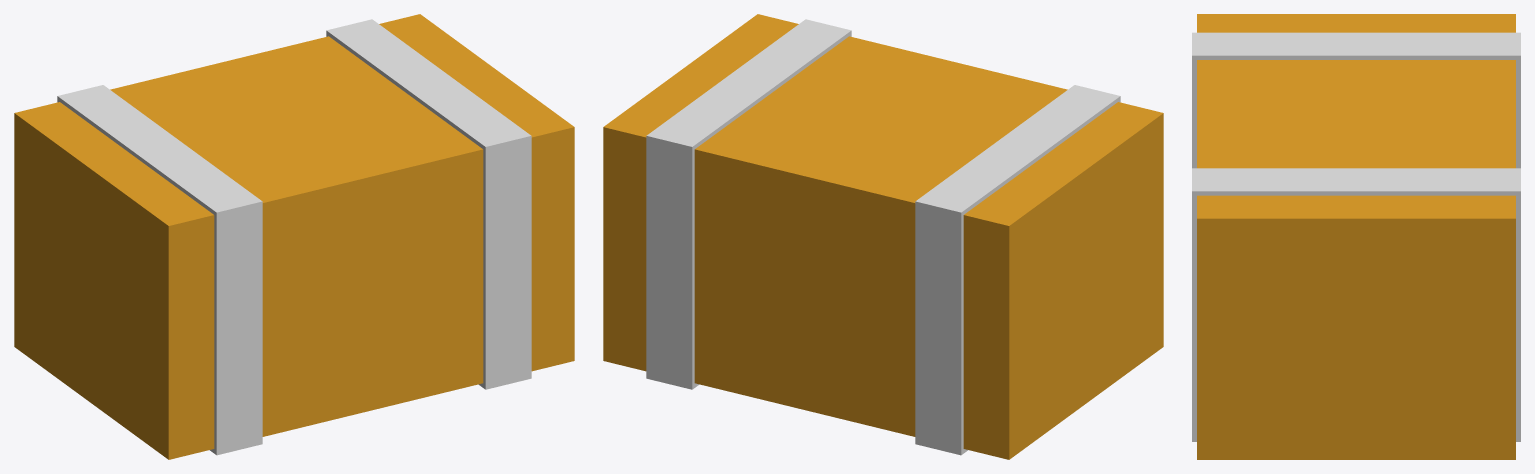
The model's file is feno.fbx.
3 views of the same model, side by side, from view 1: azimuth 30°, elevation 25°; view 2: azimuth 150°, elevation 25°; view 3: azimuth 270°, elevation 25° (orthographic). The views are drawn at different scales.
Parts seen in each view (by area): view 1: feno; view 2: feno; view 3: feno.
Boxes of the visible parts, bbox=[...] form: feno: bbox=[14, 14, 574, 459]; feno: bbox=[603, 14, 1163, 459]; feno: bbox=[1192, 14, 1520, 459].
Bounding box in the file's own units: 363 × 208 × 247.
